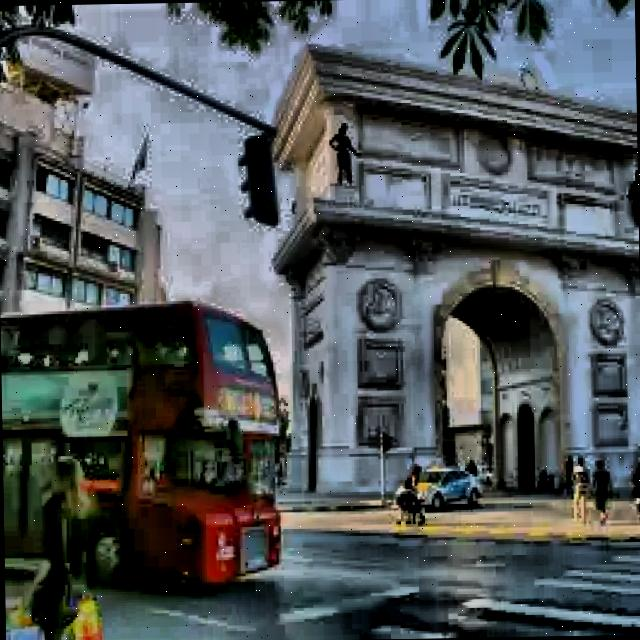triumphal arch: (267, 35, 640, 539)
